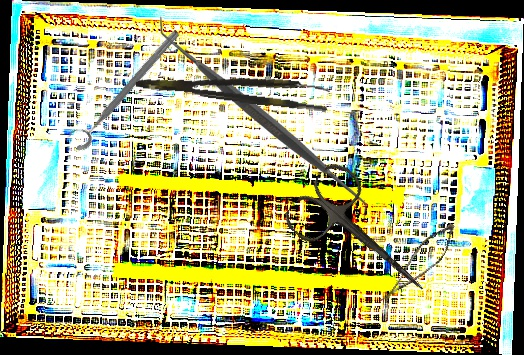Fixation Ring: (63, 20, 184, 155)
Iris Scissors: (279, 157, 450, 322)
Micro Scissor: (379, 212, 461, 319)
Spatula Surgical: (158, 16, 367, 218)
Tissue Forceps: (135, 61, 331, 114)
